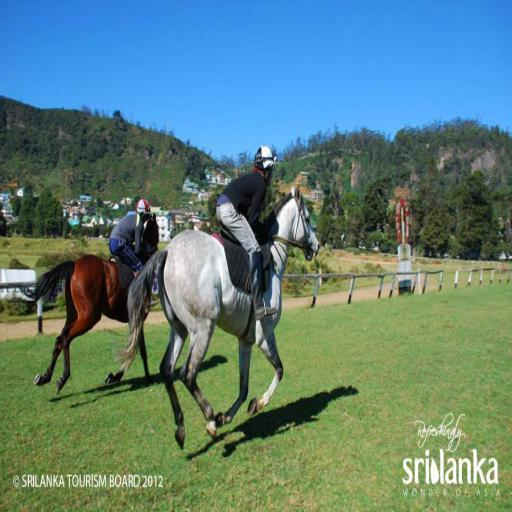horse: (112, 180, 322, 452), (18, 210, 160, 398)
